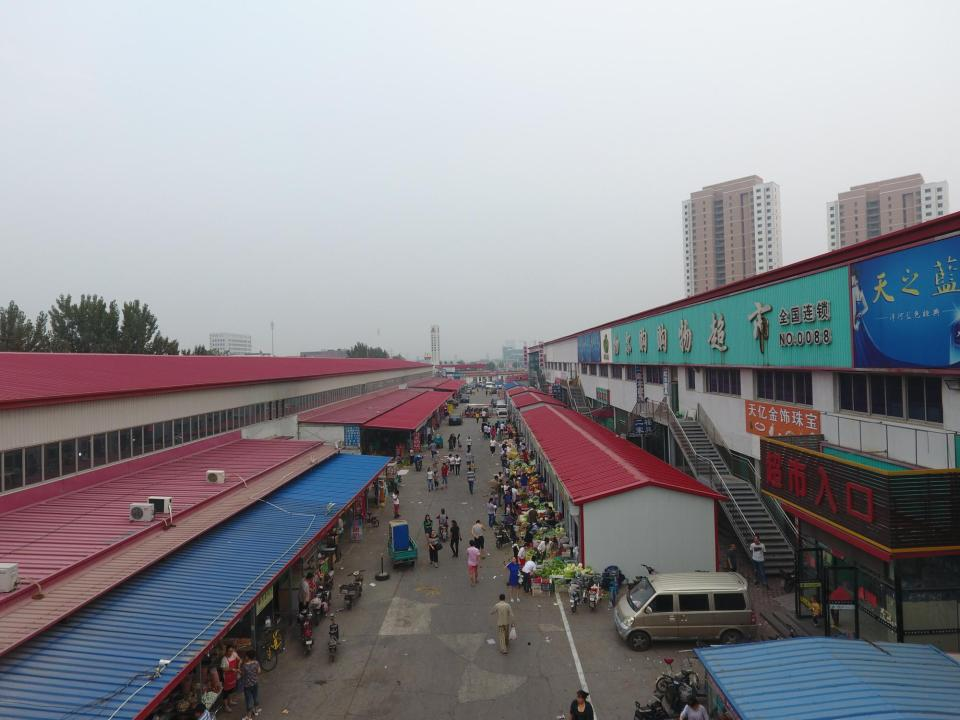car: (448, 414, 463, 426), (491, 398, 501, 407), (460, 394, 470, 403), (474, 383, 484, 388), (496, 383, 503, 389), (467, 384, 474, 389), (466, 388, 472, 393)
van: (614, 572, 758, 651), (498, 409, 510, 423), (438, 400, 458, 408), (496, 403, 508, 415), (496, 400, 506, 413), (489, 387, 497, 394), (486, 382, 493, 389), (470, 381, 476, 387), (478, 381, 484, 386), (503, 382, 510, 386)
